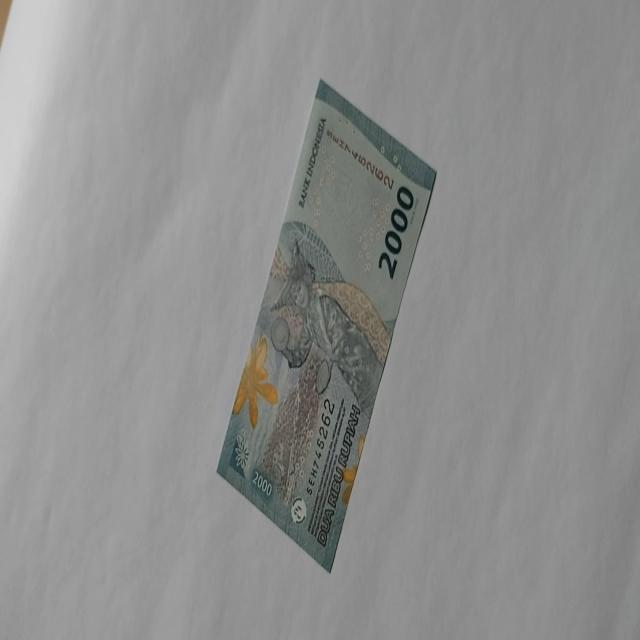dua ribu rupiah: (215, 78, 437, 572), (268, 235, 388, 412)
